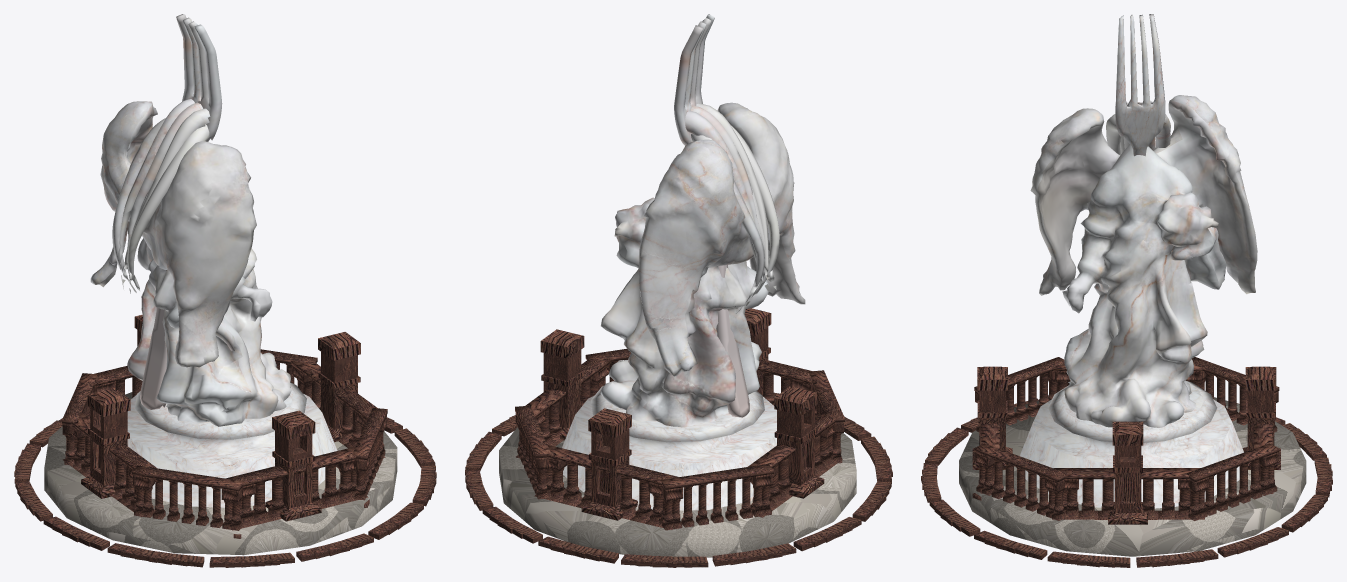
File: StatueB1.fbx
3 renders of one model, left to right at view 1: azimuth 30°, elevation 25°; view 2: azimuth 150°, elevation 25°; view 3: azimuth 270°, elevation 25°, orthographic. The views are drawn at different scales.
Parts seen in each view (by area): view 1: St, BezierCurve.002; view 2: St, BezierCurve.002; view 3: St, BezierCurve.002.
Part boxes in pixels (x1,y1,x2,y2): St: (44,14,397,555); BezierCurve.002: (14,314,436,567); St: (499,14,856,557); BezierCurve.002: (465,308,892,567); St: (959,14,1306,556); BezierCurve.002: (921,357,1332,567).
Bounding box in the file's own units: 1333 × 1621 × 1332.
